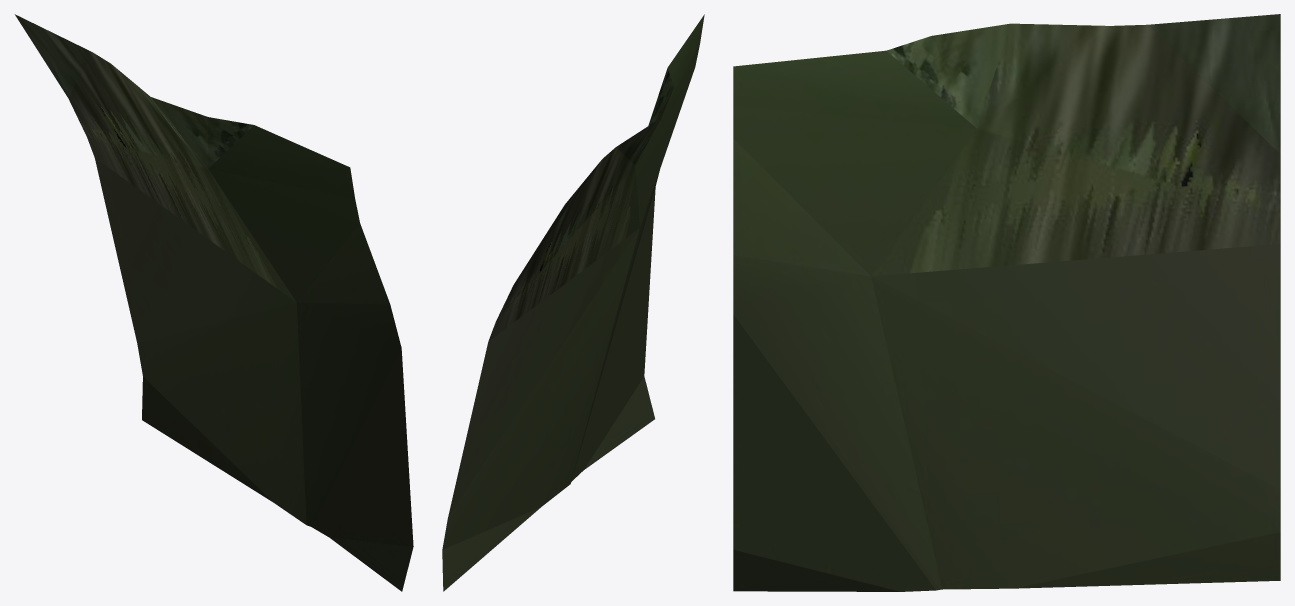
3 renders of one model, left to right at view 1: azimuth 30°, elevation 25°; view 2: azimuth 150°, elevation 25°; view 3: azimuth 270°, elevation 25°, orthographic. The views are drawn at different scales.
Bounding box in the file's own units: 1.12 × 2.95 × 2.95.
2 materials, 2 textured.
